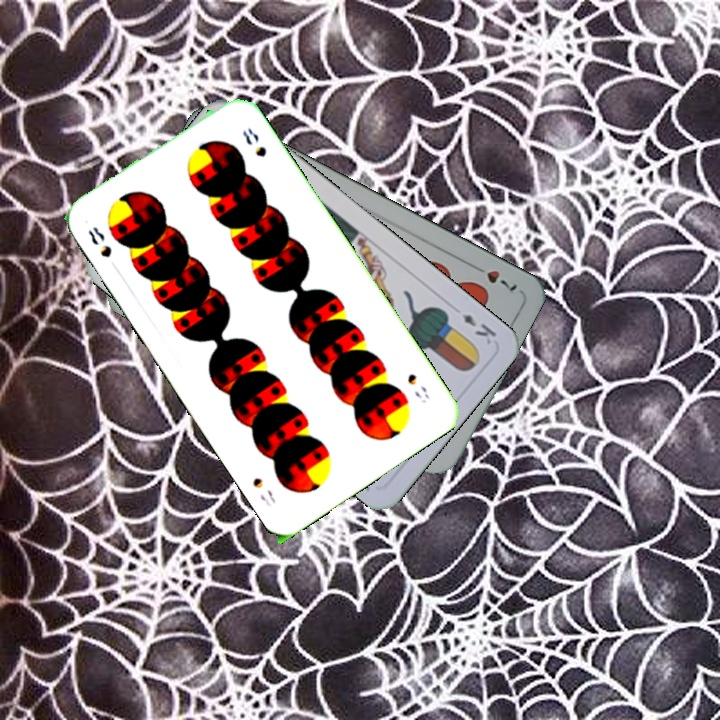EK: (458, 309, 499, 347)
H7: (467, 260, 520, 296)
S8: (84, 222, 115, 261), (403, 369, 432, 406)
